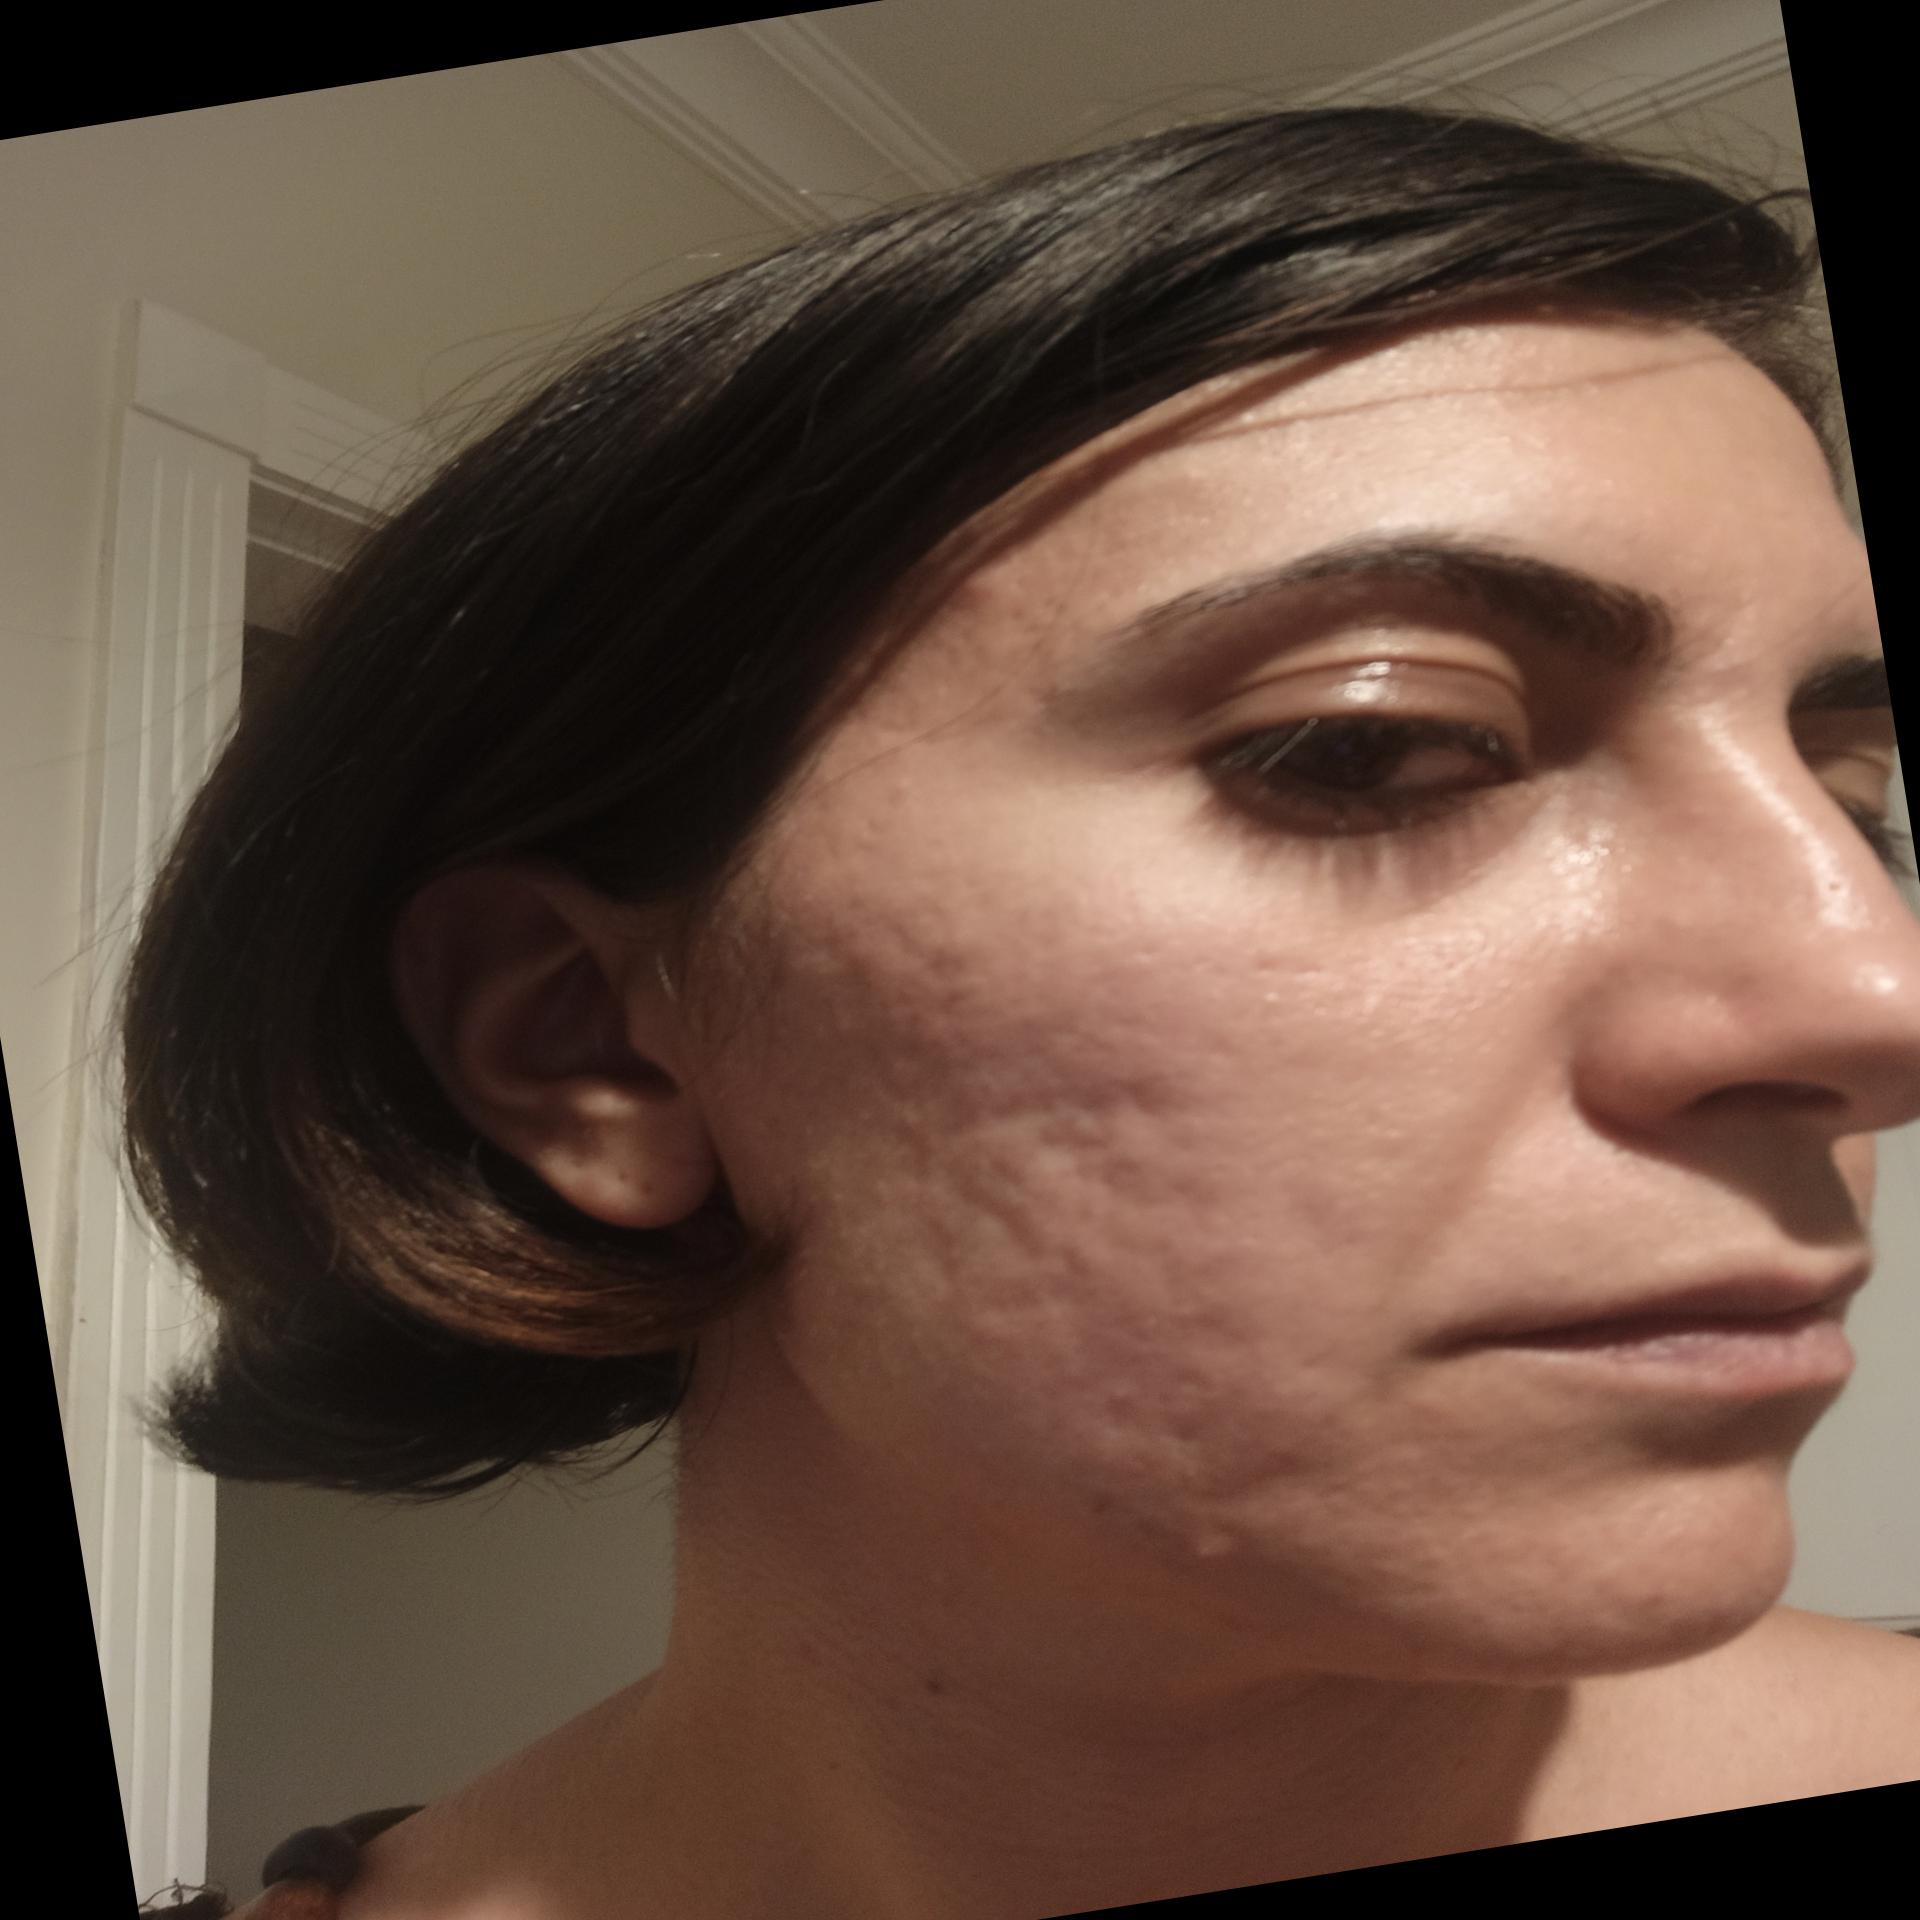Englarged Pores: (869, 1051, 1222, 1343), (821, 904, 983, 1062), (1129, 1291, 1248, 1459)
